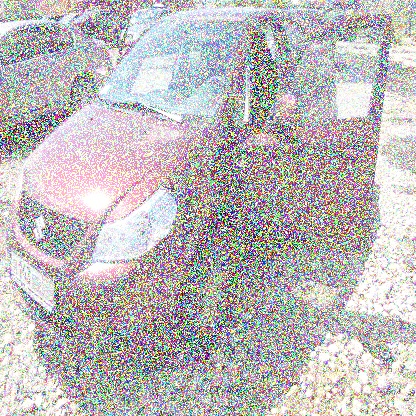Vehicle: (4, 8, 393, 366)
